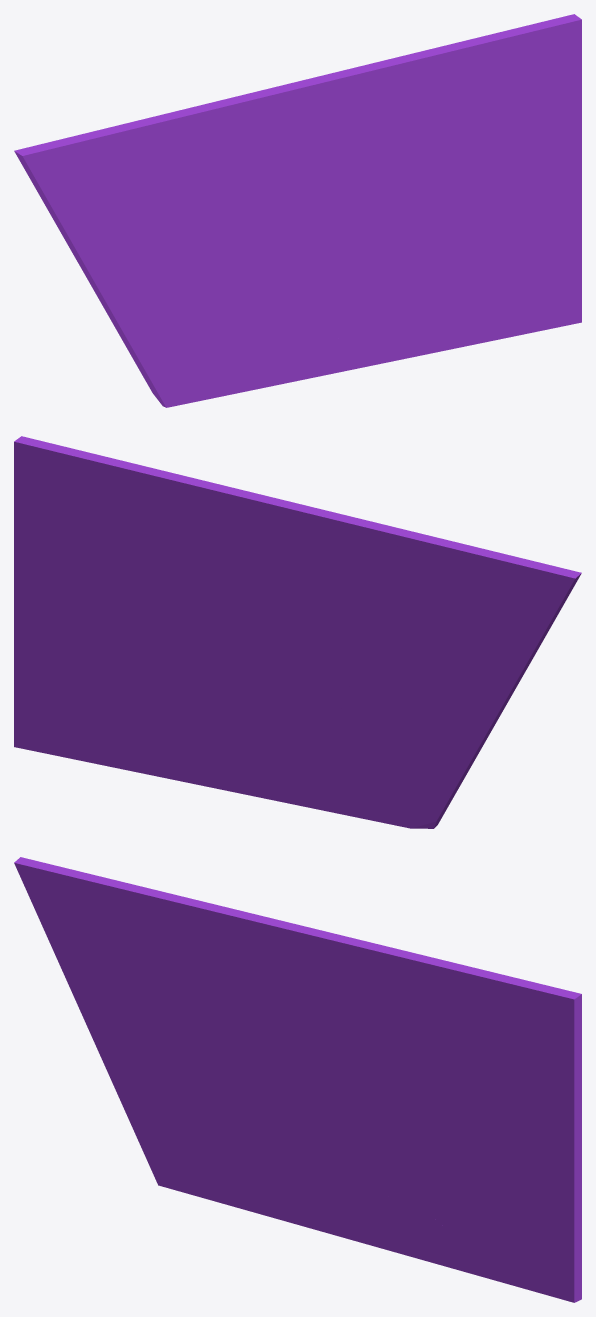
File: Glass_95_3_chunks.fbx
3 views of the same model, one above another, from view 1: azimuth 30°, elevation 25°; view 2: azimuth 150°, elevation 25°; view 3: azimuth 330°, elevation 25° (orthographic).
Parts seen in each view (by area): view 1: Glass_95_3_10, Glass_95_3_11, Glass_95_3_3, Glass_95_3_2, Glass_95_3_8, Glass_95_3_4, Glass_95_3_9, Glass_95_3_13, Glass_95_3_7, Glass_95_3_5, Glass_95_3_6, Glass_95_3_12; view 2: Glass_95_3_11, Glass_95_3_10, Glass_95_3_3, Glass_95_3_0, Glass_95_3_9, Glass_95_3_2, Glass_95_3_8, Glass_95_3_13, Glass_95_3_7, Glass_95_3_5, Glass_95_3_4, Glass_95_3_12 (+3 smaller); view 3: Glass_95_3_10, Glass_95_3_11, Glass_95_3_3, Glass_95_3_2, Glass_95_3_8, Glass_95_3_4, Glass_95_3_9, Glass_95_3_13, Glass_95_3_7, Glass_95_3_5, Glass_95_3_6, Glass_95_3_12.
Boxes of the visible parts, box(x1,y1,x2,y2) form: Glass_95_3_10: box(418, 120, 581, 333); Glass_95_3_11: box(336, 14, 581, 194); Glass_95_3_3: box(14, 119, 199, 341); Glass_95_3_2: box(120, 206, 308, 391); Glass_95_3_8: box(283, 72, 437, 213); Glass_95_3_4: box(144, 90, 300, 220); Glass_95_3_9: box(302, 213, 426, 298); Glass_95_3_13: box(362, 297, 525, 367); Glass_95_3_7: box(242, 264, 393, 339); Glass_95_3_5: box(146, 320, 263, 407); Glass_95_3_6: box(263, 291, 412, 379); Glass_95_3_12: box(260, 330, 363, 388); Glass_95_3_11: box(14, 436, 252, 625); Glass_95_3_10: box(14, 550, 170, 756); Glass_95_3_3: box(406, 541, 581, 764); Glass_95_3_0: box(287, 510, 401, 719); Glass_95_3_9: box(161, 611, 293, 722); Glass_95_3_2: box(337, 639, 474, 808); Glass_95_3_8: box(185, 489, 317, 611); Glass_95_3_13: box(63, 718, 237, 792); Glass_95_3_7: box(199, 685, 361, 767); Glass_95_3_5: box(329, 740, 446, 828); Glass_95_3_4: box(317, 508, 450, 641); Glass_95_3_12: box(239, 745, 341, 814); Glass_95_3_10: box(410, 1100, 581, 1302); Glass_95_3_11: box(344, 936, 581, 1104); Glass_95_3_3: box(14, 857, 191, 1100); Glass_95_3_2: box(120, 1014, 300, 1164); Glass_95_3_8: box(278, 923, 430, 1117); Glass_95_3_4: box(144, 888, 292, 1048); Glass_95_3_9: box(294, 1057, 418, 1198); Glass_95_3_13: box(354, 1195, 517, 1286); Glass_95_3_7: box(233, 1110, 385, 1179); Glass_95_3_5: box(149, 1134, 255, 1211); Glass_95_3_6: box(255, 1165, 404, 1204); Glass_95_3_12: box(252, 1199, 355, 1240).
Bounding box in the file's own units: 1165 × 606 × 27.2.
